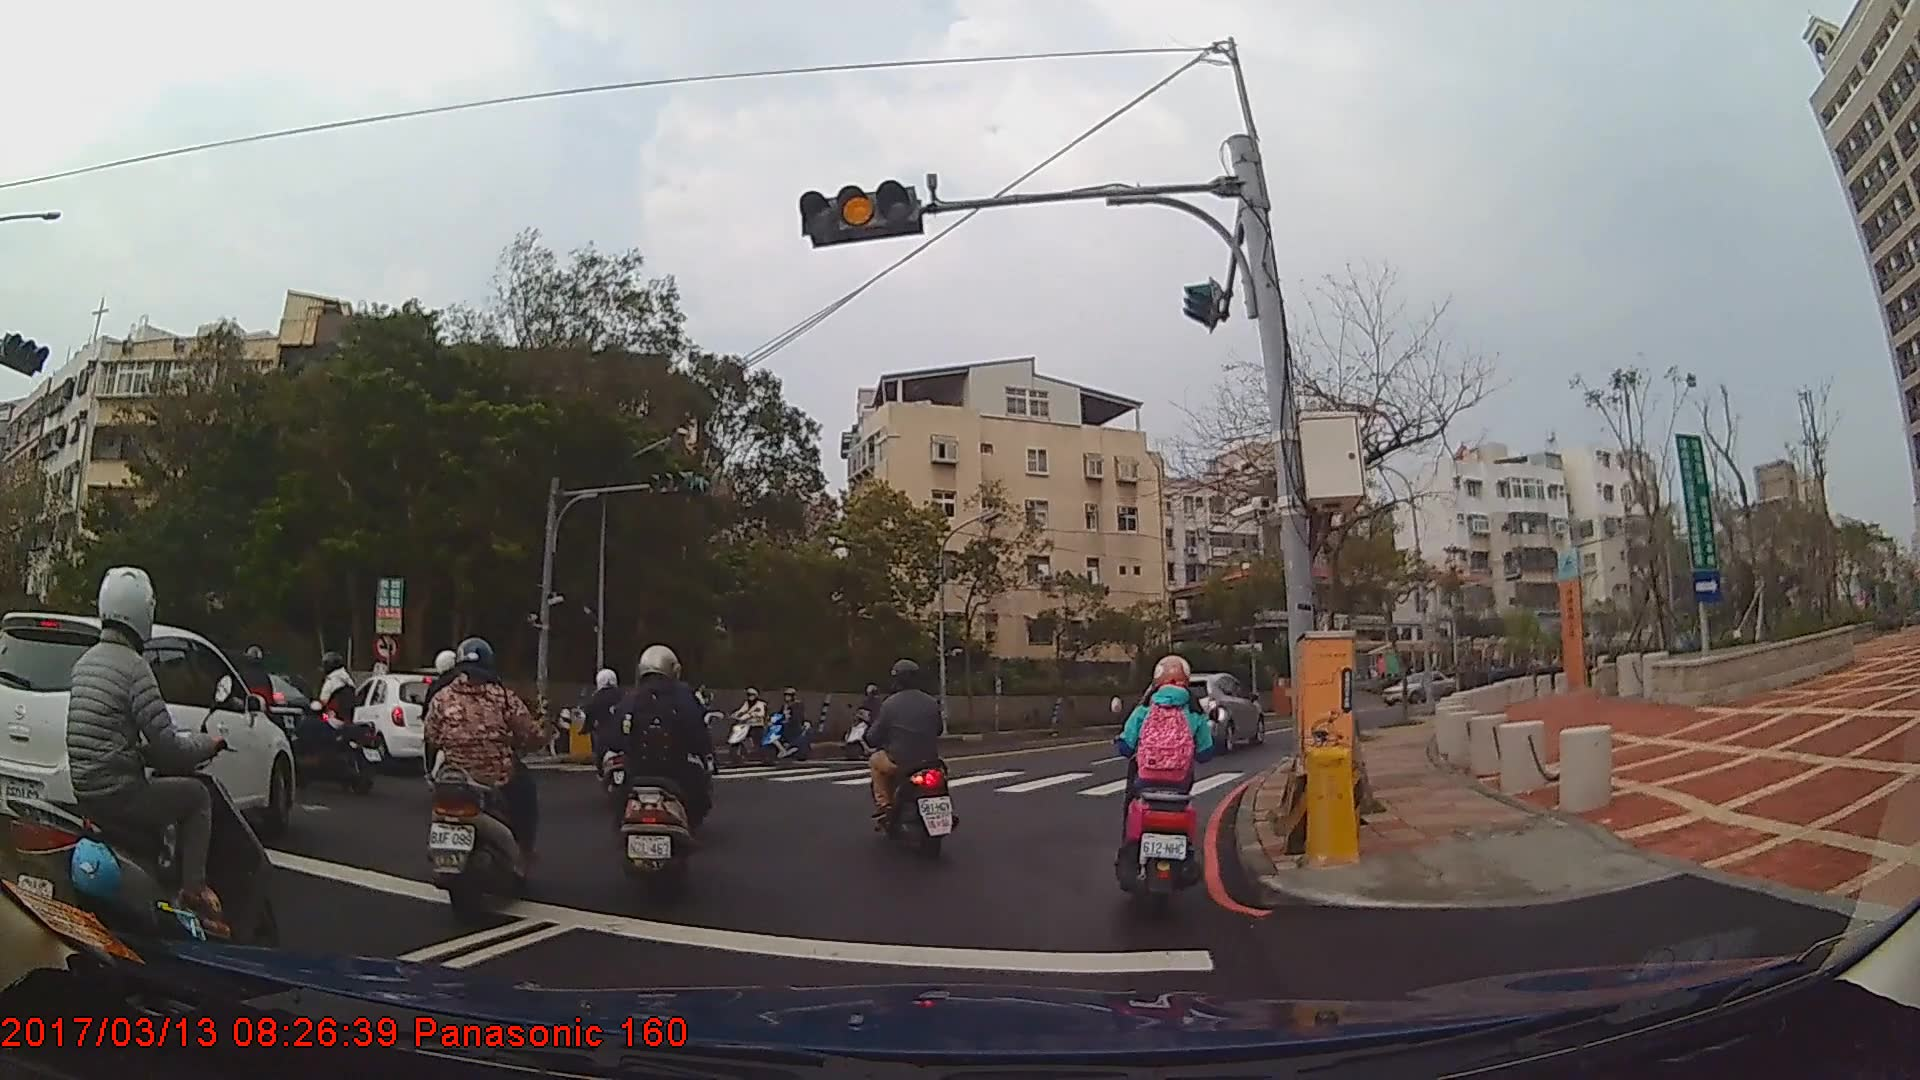rider: (8, 566, 275, 999), (422, 638, 545, 921), (607, 645, 715, 901), (1121, 653, 1224, 912), (861, 655, 954, 856), (568, 667, 649, 811), (296, 651, 365, 790), (217, 645, 281, 780), (843, 688, 896, 766), (765, 687, 813, 764), (732, 684, 773, 763)
vehicle: (0, 611, 294, 857), (328, 672, 461, 769), (1141, 673, 1265, 756), (1383, 668, 1453, 705)
